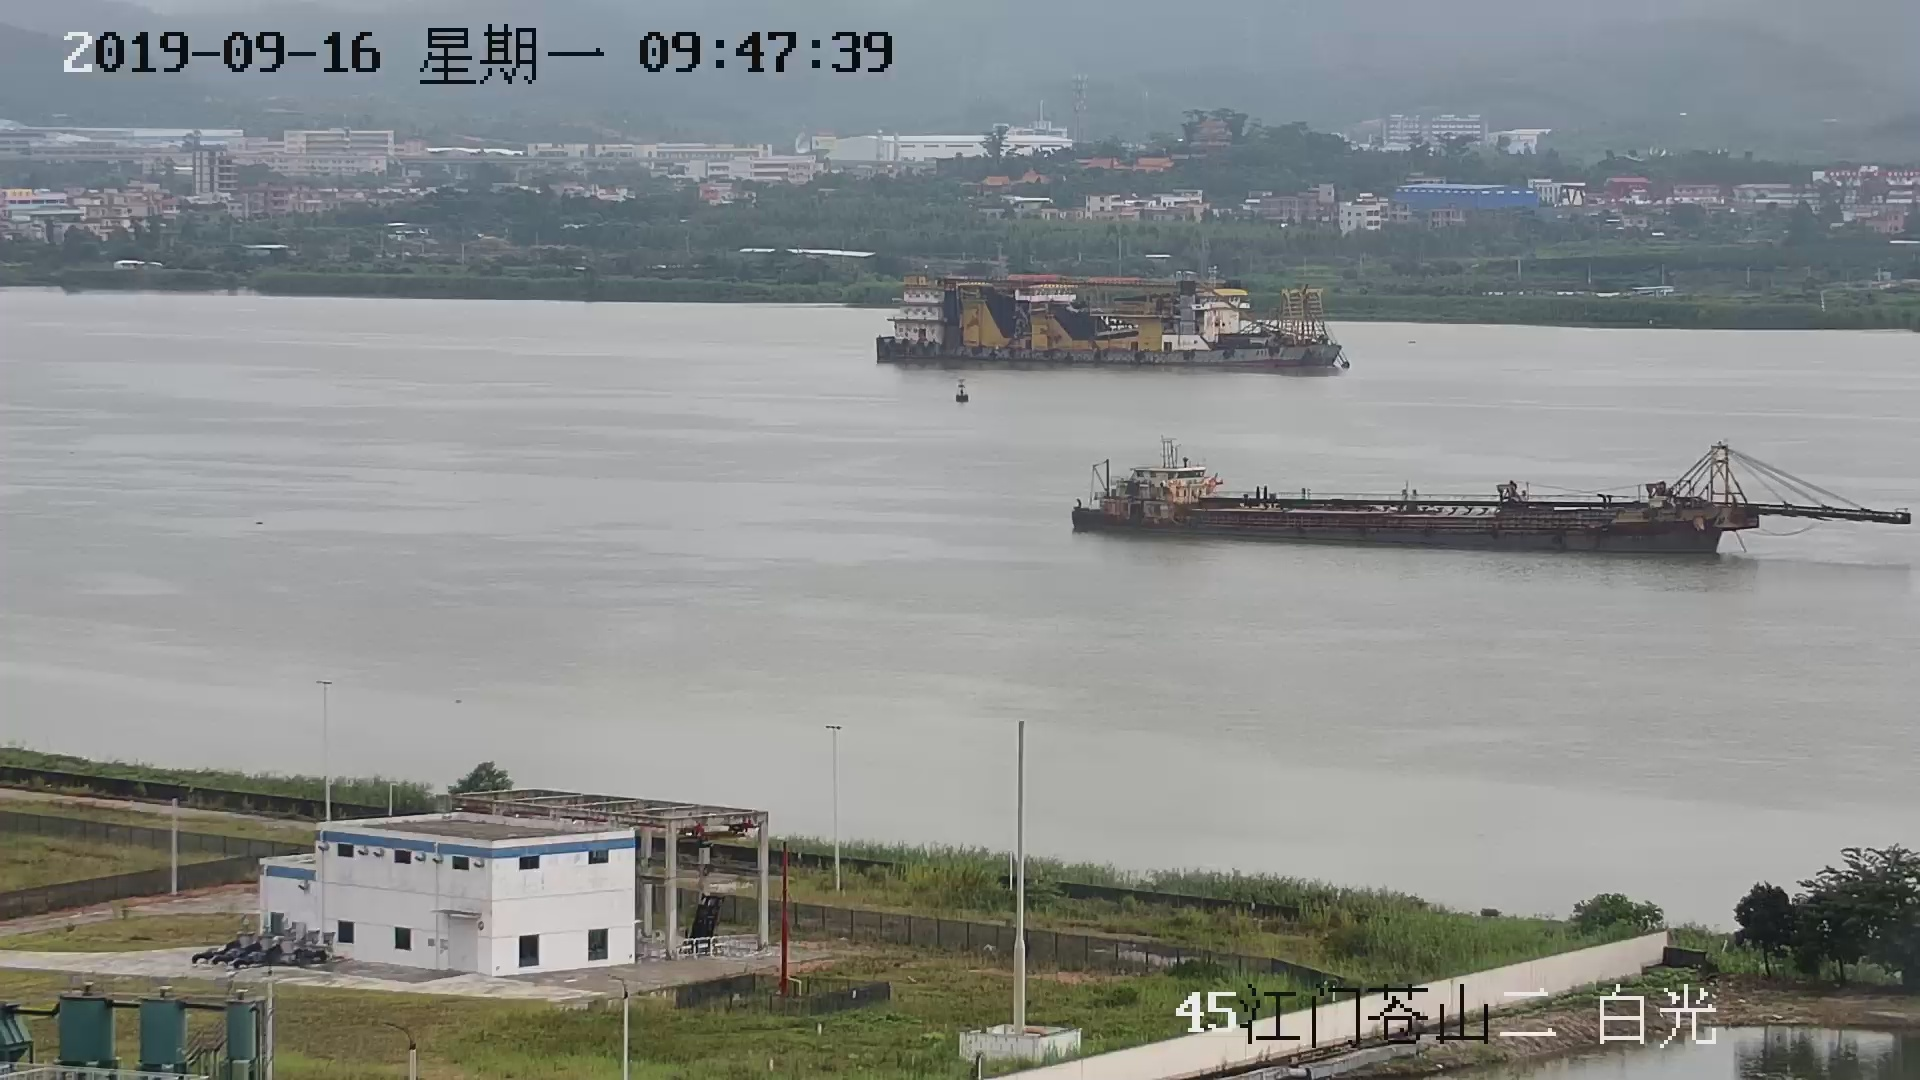ship: (1068, 444, 1911, 553), (880, 276, 1346, 368)
